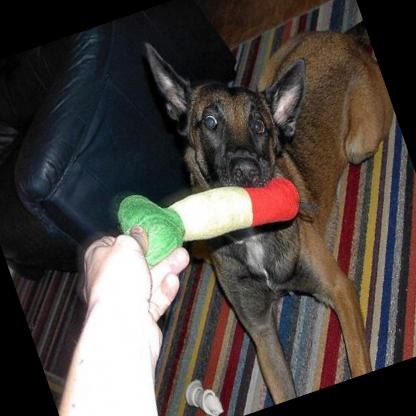malinois: (121, 0, 416, 412)
